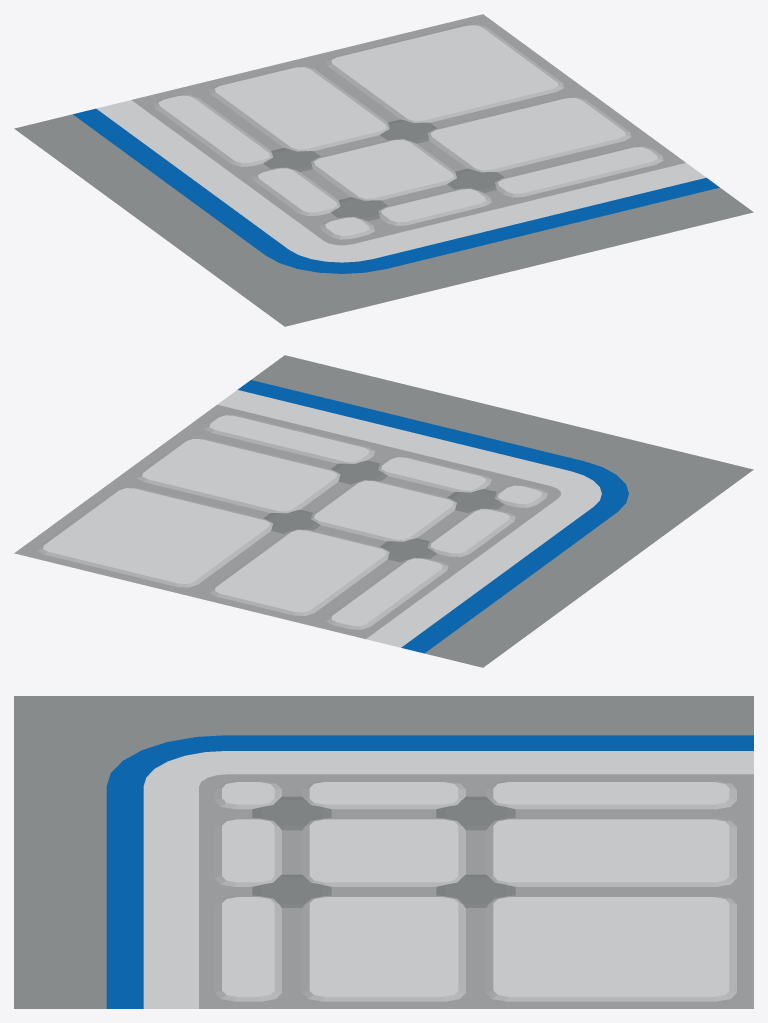
The model's file is Floor_type_A_011.fbx.
3 views of the same model, one above another, from view 1: azimuth 30°, elevation 25°; view 2: azimuth 150°, elevation 25°; view 3: azimuth 270°, elevation 25° (orthographic). The views are drawn at different scales.
Visible parts, largest first — view 1: Floor_type_A_011; view 2: Floor_type_A_011; view 3: Floor_type_A_011.
Part boxes in pixels (left/top/right/bottom): Floor_type_A_011: left=14, top=14, right=753, bottom=326; Floor_type_A_011: left=14, top=355, right=753, bottom=667; Floor_type_A_011: left=14, top=696, right=753, bottom=1008.
Bounding box in the file's own units: 400 × 400 × 1.34.
